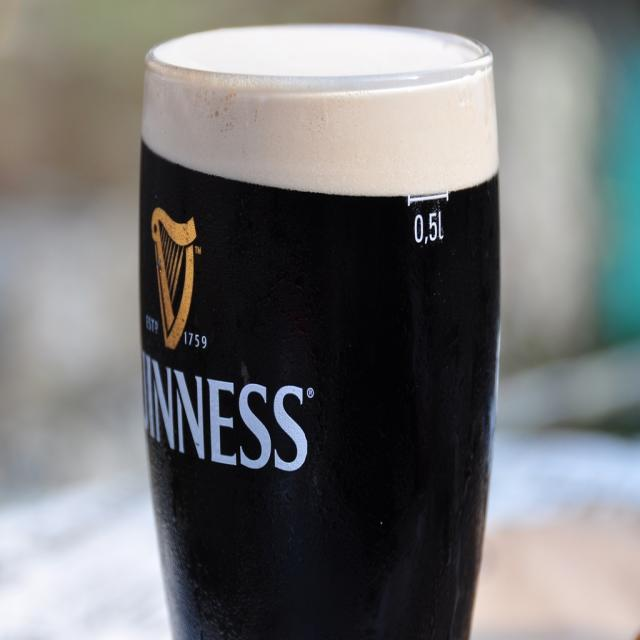guiness: (142, 204, 314, 478)
